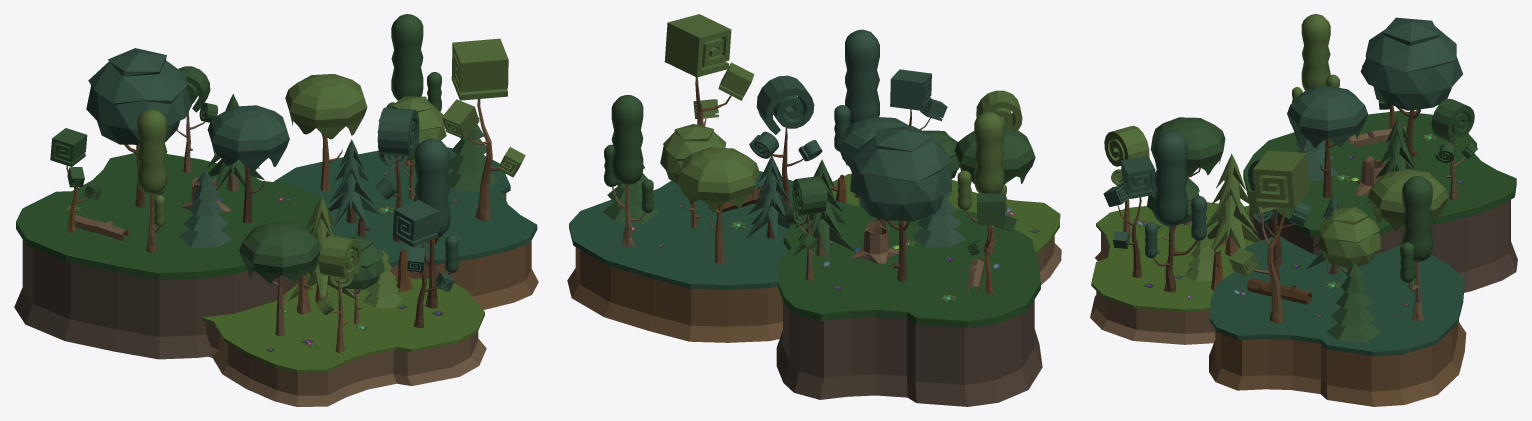
Rendered from Trees and Plants Demo.fbx.
The picture shows the model from 3 angles, left to right: view 1: azimuth 30°, elevation 25°; view 2: azimuth 150°, elevation 25°; view 3: azimuth 270°, elevation 25°; orthographic projection. The views are drawn at different scales.
Visible parts, largest first — view 1: Trees and Plants Demo; view 2: Trees and Plants Demo; view 3: Trees and Plants Demo.
Part boxes in pixels (x1=…): Trees and Plants Demo: x1=14, y1=14, x2=538, y2=406; Trees and Plants Demo: x1=567, y1=14, x2=1061, y2=406; Trees and Plants Demo: x1=1090, y1=14, x2=1517, y2=406.
Size of the model in its own units: 3792 by 1850 by 3182.
